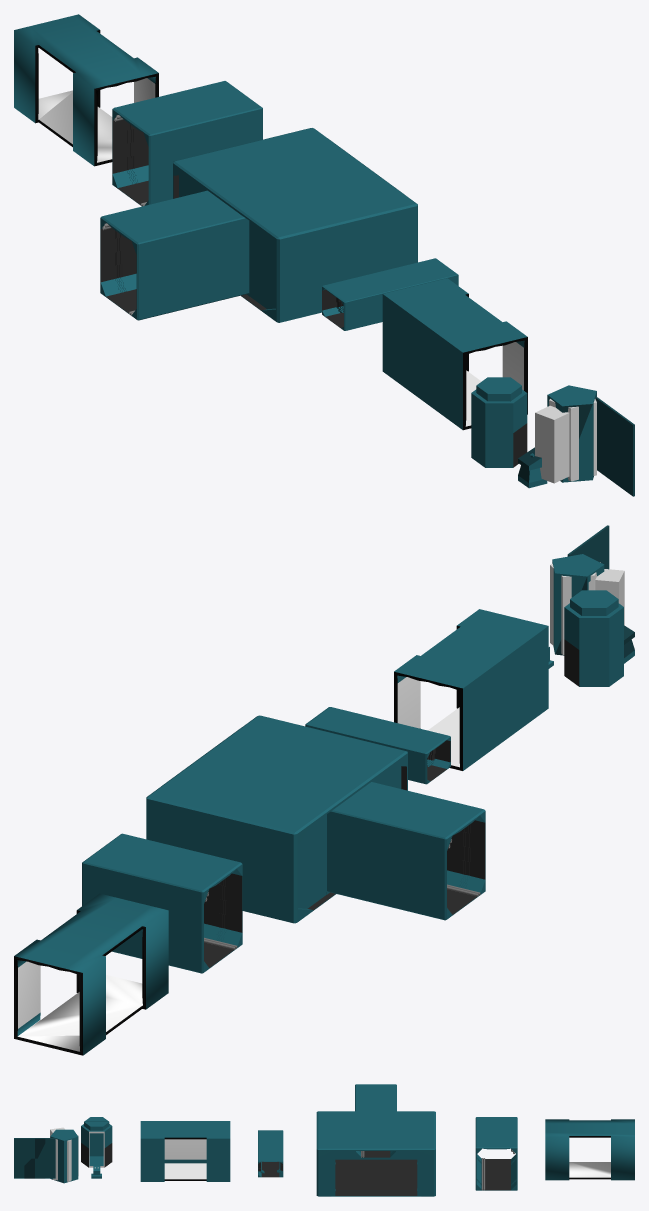
File: AllPrefabsSpace2.fbx
The picture shows the model from 3 angles, top to bottom: view 1: azimuth 30°, elevation 25°; view 2: azimuth 150°, elevation 25°; view 3: azimuth 270°, elevation 25°; orthographic projection. The views are drawn at different scales.
Visible parts, largest first — view 1: Cube.001, Cube.007, Cube.004, Cube.005, Cube, Cylinder.008, Cube.003, Cylinder.009, Cylinder.010, DOOR L, DOOR R; view 2: Cube.001, Cube.007, Cube.005, Cube.004, Cube, Cylinder.008, Cube.003, Cylinder.010, Cylinder.009; view 3: Cube.001, Cube.004, Cube.005, Cube, Cylinder.008, Cube.007, Cube.003, Cylinder.010, DOOR R, DOOR L, Cylinder.009.
Boxes of the visible parts, x1,y1,x2,y2 form: Cube.001: (173,128,417,322); Cube.007: (100,190,249,320); Cube.004: (382,278,527,430); Cube.005: (14,14,158,166); Cube: (112,81,262,206); Cylinder.008: (471,377,527,467); Cube.003: (322,258,458,330); Cylinder.009: (535,399,596,483); Cylinder.010: (518,385,596,488); DOOR L: (614,411,634,496); DOOR R: (595,397,615,482); Cube.001: (146,715,407,923); Cube.007: (327,782,485,920); Cube.005: (14,893,168,1055); Cube.004: (394,609,548,770); Cube: (82,833,242,973); Cylinder.008: (548,590,623,686); Cube.003: (305,707,450,784); Cylinder.010: (552,554,634,663); Cylinder.009: (550,562,624,654); Cube.001: (316,1111,435,1196); Cube.004: (140,1121,230,1181); Cube.005: (545,1119,634,1180); Cube: (475,1117,517,1190); Cylinder.008: (81,1117,112,1178); Cube.007: (355,1084,396,1157); Cube.003: (258,1130,283,1177); Cylinder.010: (50,1129,78,1183); DOOR R: (35,1138,55,1178); DOOR L: (14,1138,34,1178); Cylinder.009: (50,1127,78,1181).
Bounding box in the file's own units: 2675 × 882 × 10401.
